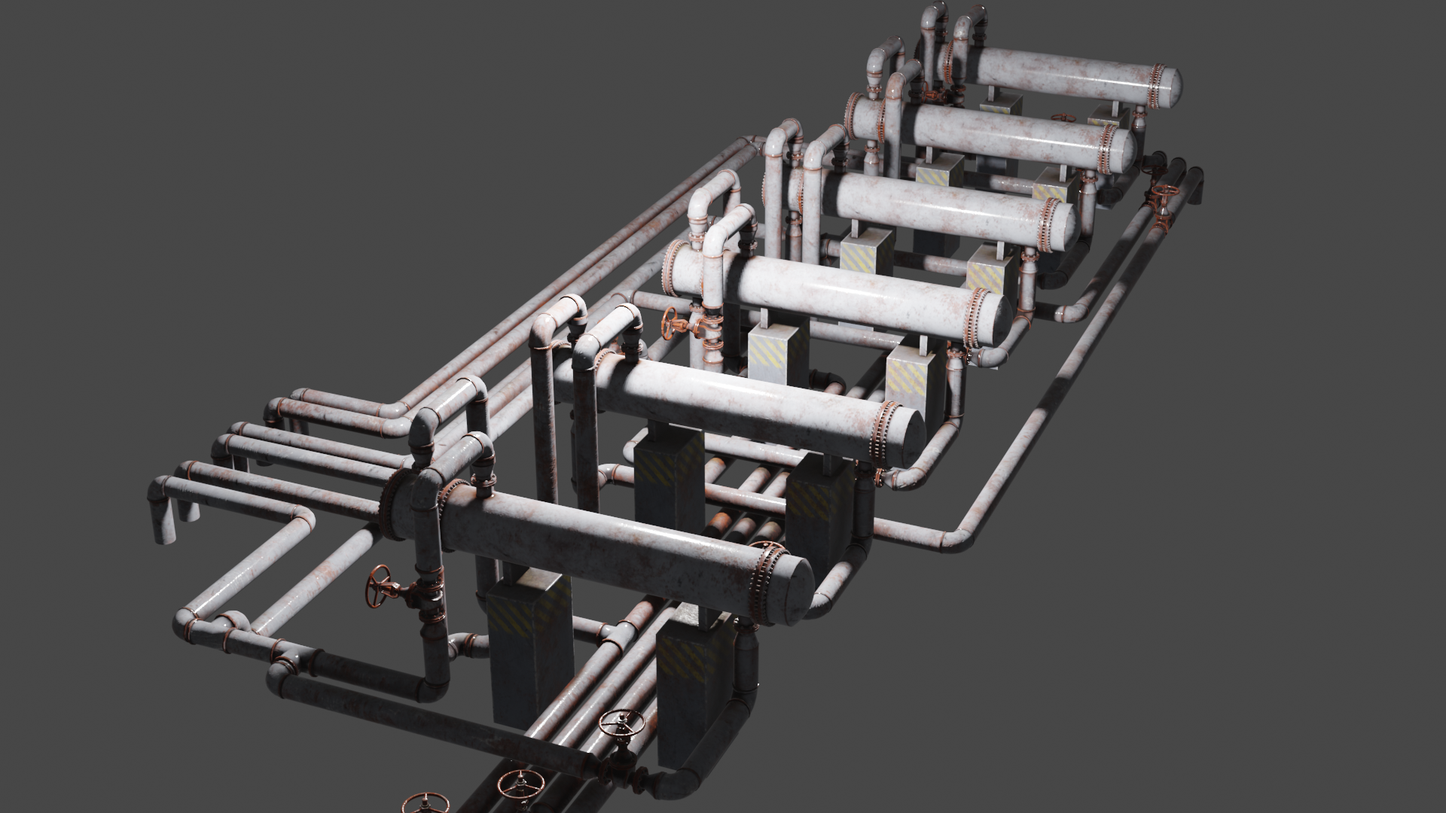HE_1: (907, 40, 1188, 110)
HE_2: (842, 95, 1139, 173)
HE_3: (759, 161, 1080, 251)
HE_4: (656, 234, 1010, 350)
HE_5: (553, 341, 927, 470)
HE_6: (379, 463, 810, 627)
